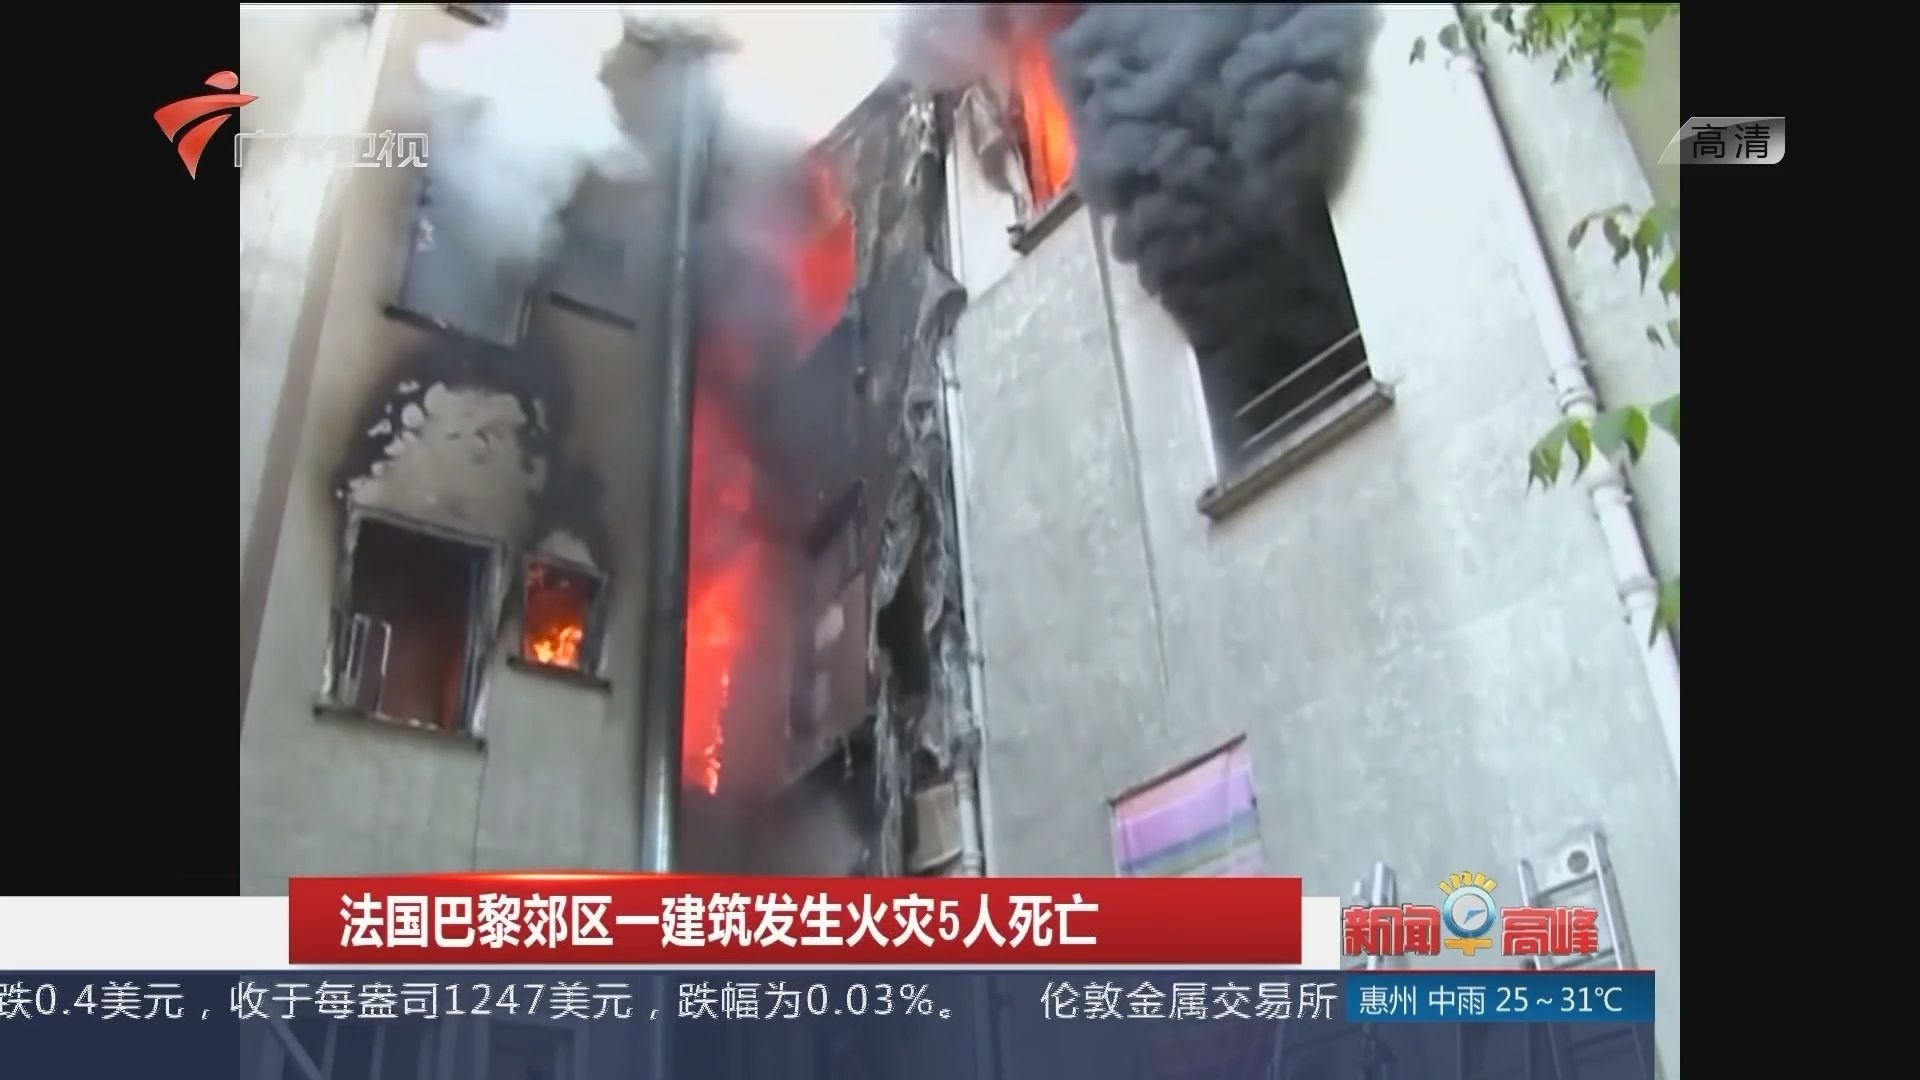fire: (785, 160, 858, 324), (1007, 41, 1077, 194), (521, 580, 593, 673)
